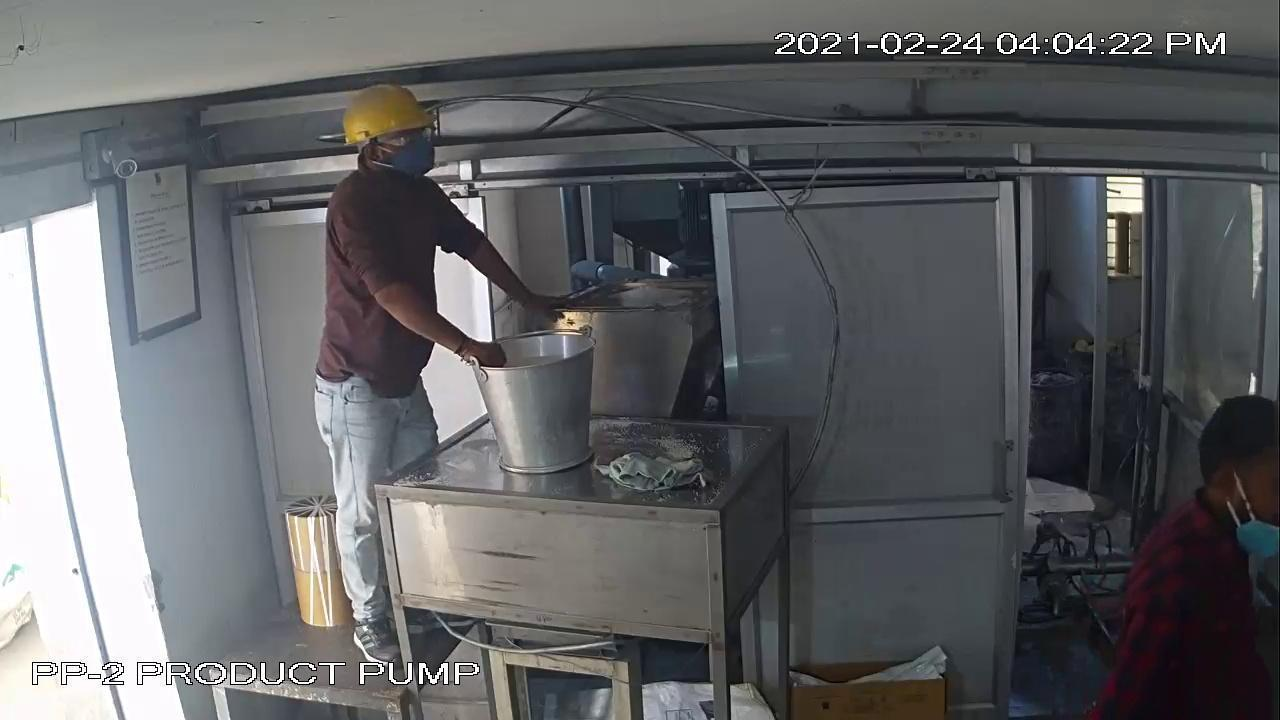helmet: (334, 75, 442, 156)
